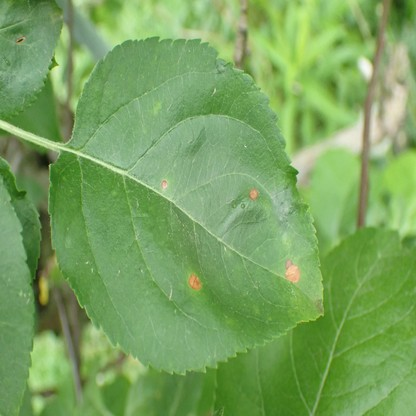frogeye_leaf_spot: (285, 260, 300, 283), (188, 273, 202, 290), (250, 187, 258, 199), (160, 180, 168, 189), (16, 37, 25, 43)
scab: (315, 299, 324, 316), (153, 103, 160, 116), (254, 306, 259, 315)
